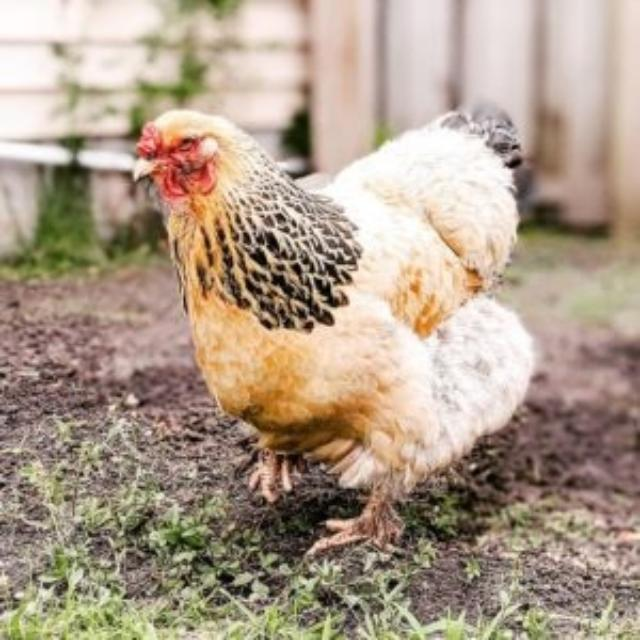Chicken: (131, 106, 540, 545)
